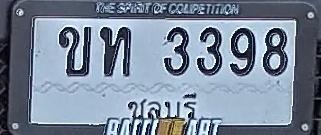3: (196, 26, 221, 76), (164, 26, 188, 76)
8: (262, 26, 288, 76)
9: (230, 27, 255, 76)
A02: (58, 26, 91, 76)
A23: (100, 26, 131, 76)
CBI: (125, 88, 199, 122)
